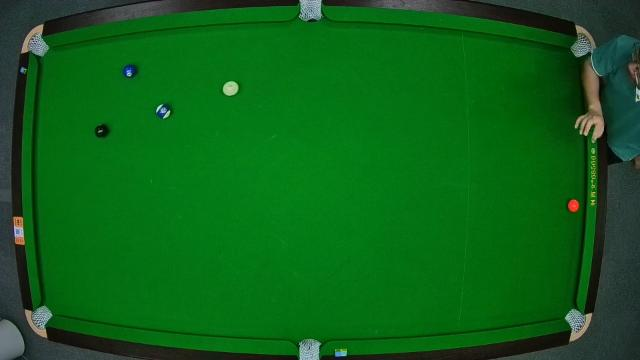bag1: (28, 35, 46, 57)
bag2: (299, 1, 323, 22)
bag3: (572, 34, 590, 56)
bag4: (32, 308, 52, 328)
bag5: (299, 342, 323, 360)
bag6: (566, 309, 586, 329)
ball0: (224, 80, 238, 98)
ball10: (154, 103, 172, 121)
ball2: (123, 63, 137, 78)
ball5: (565, 198, 579, 214)
ball8: (94, 124, 110, 138)
